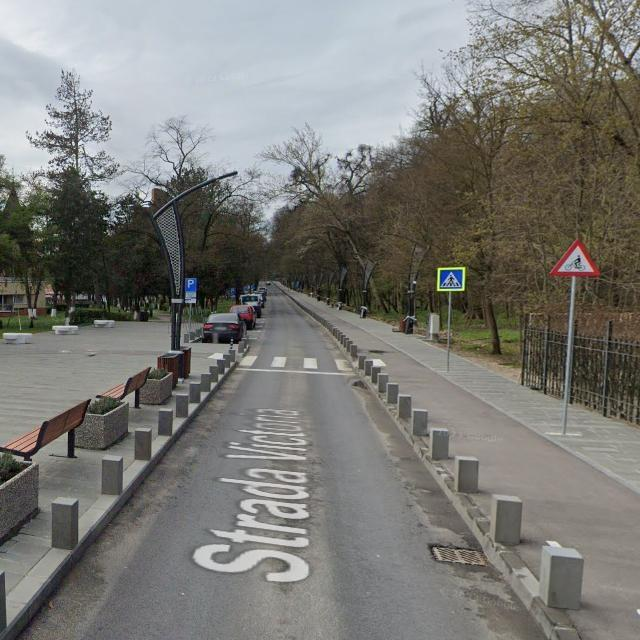info_crosswalk: (437, 267, 466, 291)
